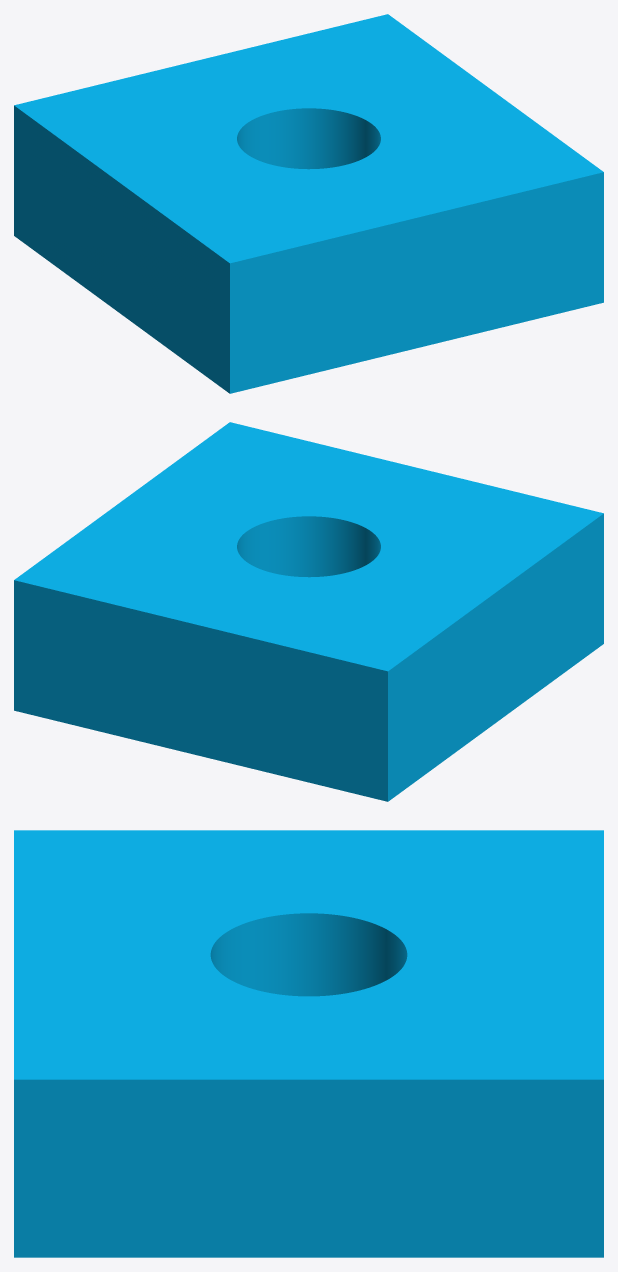
The model's file is gt_Z_secim_islemi.gltf.
3 views of the same model, one above another, from view 1: azimuth 30°, elevation 25°; view 2: azimuth 150°, elevation 25°; view 3: azimuth 270°, elevation 25° (orthographic). The views are drawn at different scales.
Visible parts, largest first — view 1: Gövde; view 2: Gövde; view 3: Gövde.
Part boxes in pixels (<box>): Gövde: <box>14,14,603,393</box>; Gövde: <box>14,422,603,801</box>; Gövde: <box>14,830,603,1257</box>.
Size of the model in its own units: 0.03 by 0.01 by 0.03.
